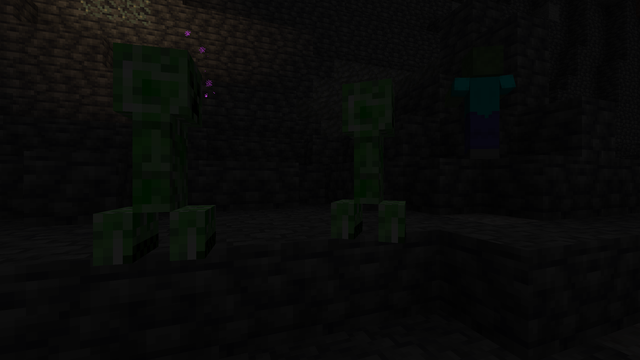creepers: (104, 25, 204, 268), (334, 67, 409, 243)
zombies: (455, 45, 508, 161)
